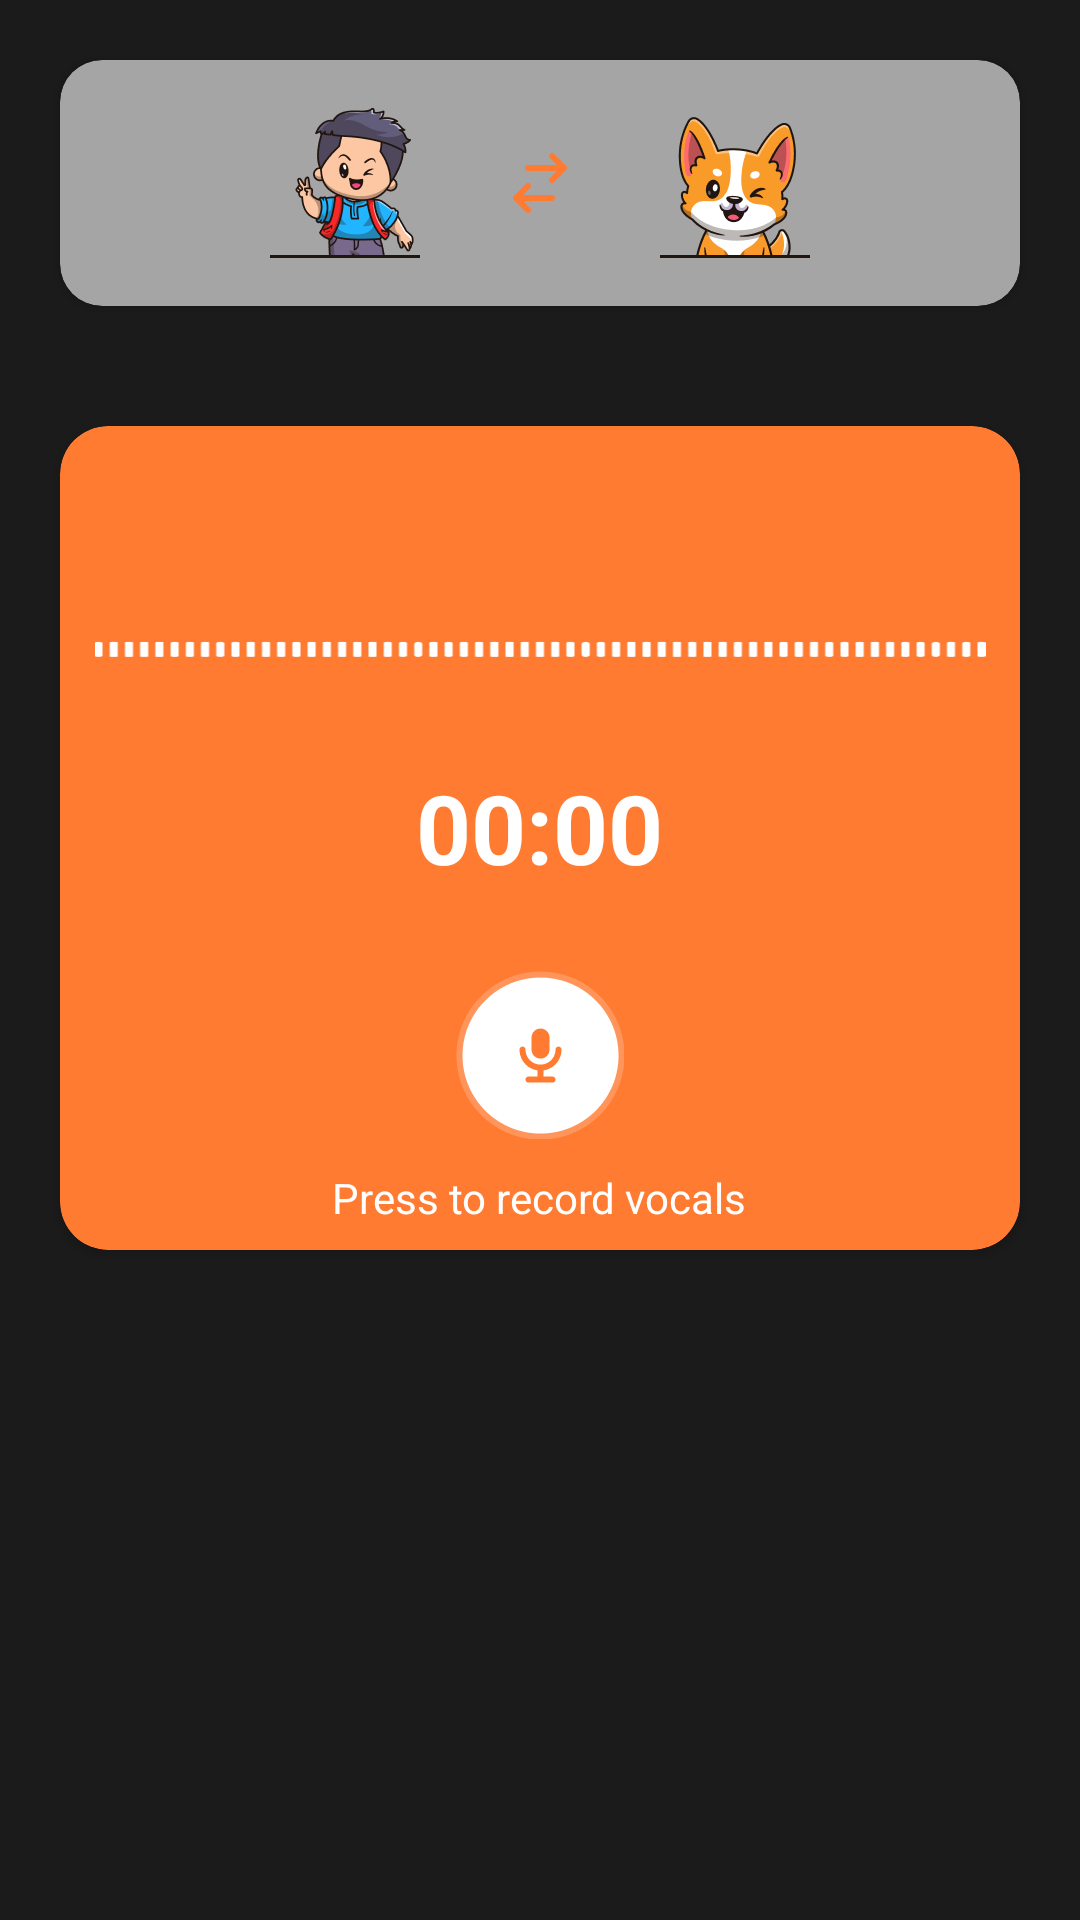

Icon click points for this 1080x1920 phone screenshot, format [x,y]:
dog: [735,187]
human: [345,183]
switch: [540,183]
